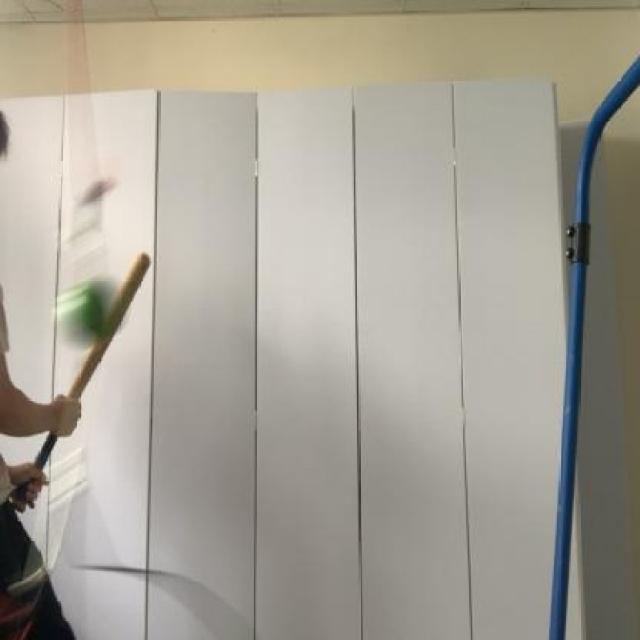baseball: (45, 263, 128, 359)
